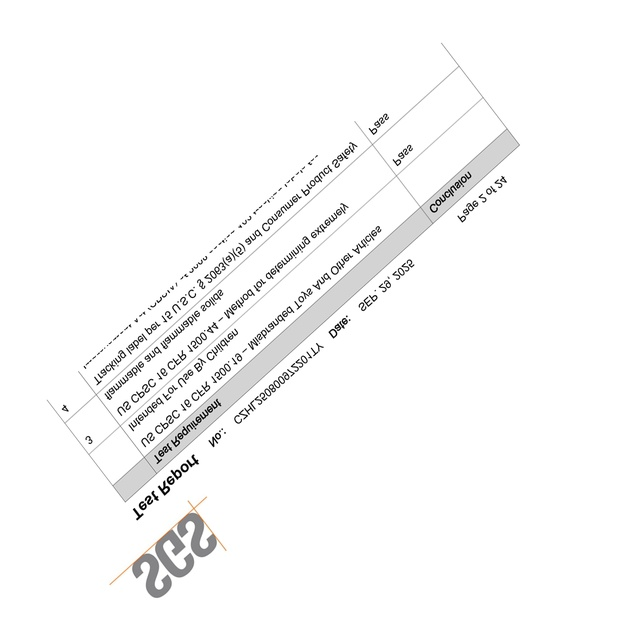sgs: (132, 512, 217, 598)
